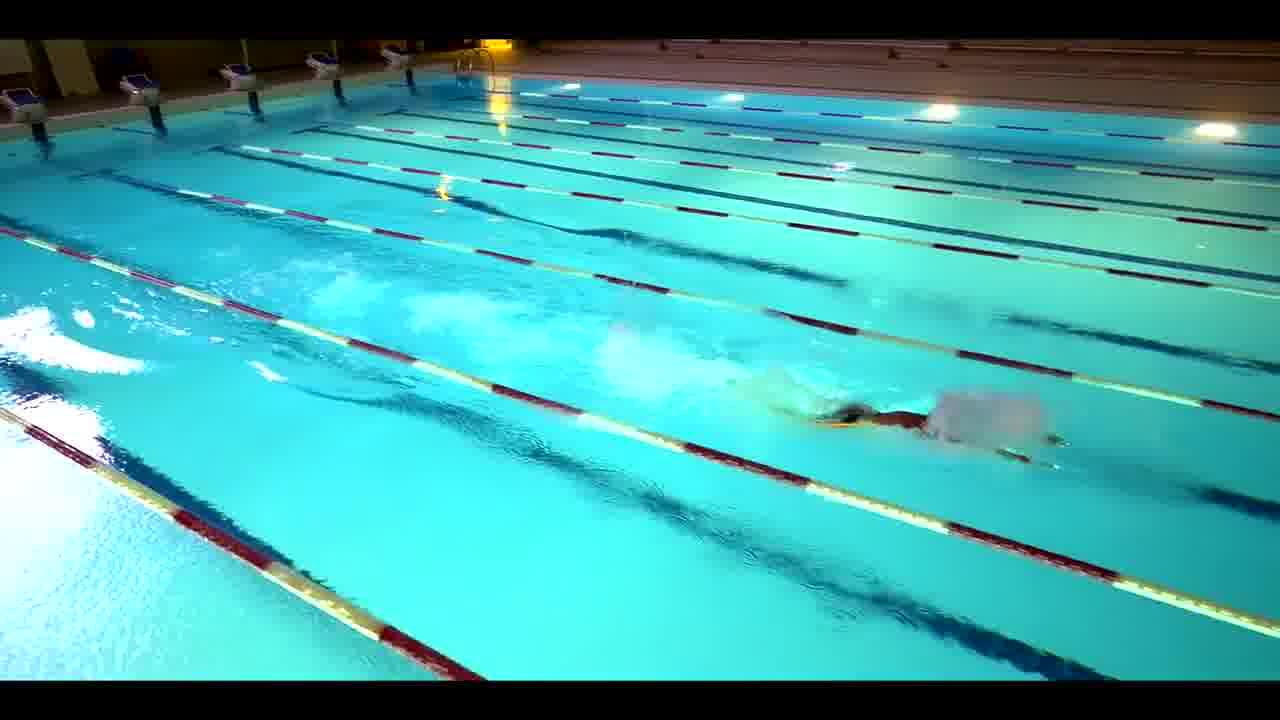human: (823, 399, 1086, 499)
